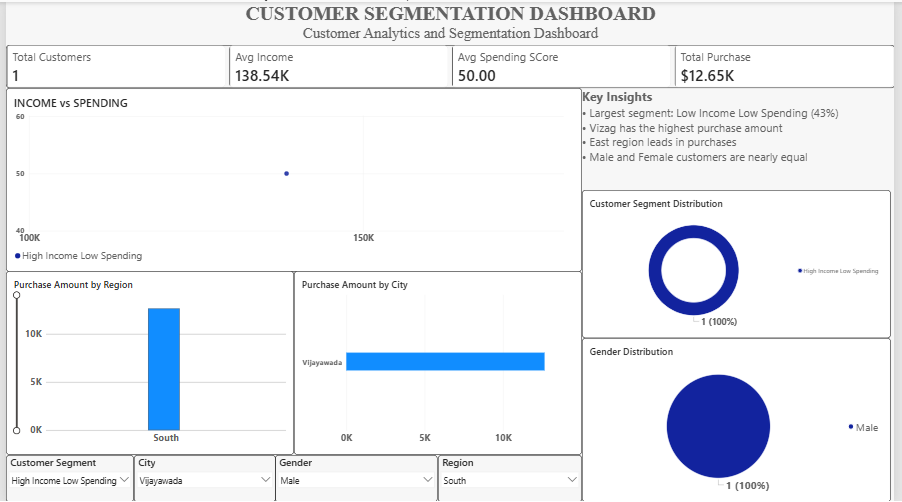

The page's visual inventory and layout, read from the dashboard file:
{"tool":"powerbi","page":{"name":"Page 1","canvas":[1920,1080],"ordinal":0},"visuals":[{"type":"cardVisual","fields":{"Data":["CustomerSegmentation.Total Customers","CustomerSegmentation.Avg Income","CustomerSegmentation.Avg Spending SCore","CustomerSegmentation.Total Purchase"]},"box":[0,92.9,1920.2,92.9],"z":0},{"type":"textbox","box":[0,0,1920.2,92.9],"z":1},{"type":"donutChart","title":"Customer Segment Distribution","fields":{"Category":["CustomerSegmentation.Customer Segment"],"Y":["CountNonNull(CustomerSegmentation.CustomerID)"]},"box":[1244.2,406.1,667.4,319.7],"z":2},{"type":"scatterChart","title":"INCOME vs SPENDING","fields":{"Series":["CustomerSegmentation.Customer Segment"],"X":["CustomerSegmentation.AnnualIncome"],"Y":["CustomerSegmentation.SpendingScore"]},"box":[0,185,1244.2,396.9],"z":3},{"type":"pieChart","title":"Gender Distribution","fields":{"Category":["CustomerSegmentation.Gender"],"Y":["CountNonNull(CustomerSegmentation.CustomerID)"]},"box":[1244.2,725.8,667.4,354.2],"z":4},{"type":"clusteredColumnChart","title":"Purchase Amount by Region","fields":{"Category":["CustomerSegmentation.Region"],"Y":["Sum(CustomerSegmentation.PurchaseAmount)"]},"box":[0,581.9,622.1,396.9],"z":5},{"type":"clusteredBarChart","title":"Purchase Amount by City","fields":{"Category":["CustomerSegmentation.City"],"Y":["Sum(CustomerSegmentation.PurchaseAmount)"]},"box":[622.1,581.9,622.1,396.9],"z":6},{"type":"slicer","fields":{"Values":["CustomerSegmentation.Customer Segment"]},"box":[0,978.8,276.2,101.9],"z":7},{"type":"slicer","fields":{"Values":["CustomerSegmentation.Gender"]},"box":[581.9,978.8,351.3,101.9],"z":8},{"type":"slicer","fields":{"Values":["CustomerSegmentation.City"]},"box":[276.2,978.8,305.7,101.9],"z":9},{"type":"slicer","fields":{"Values":["CustomerSegmentation.Region"]},"box":[933.2,978.8,311.1,101.9],"z":10},{"type":"textbox","box":[1244,186,676,220],"z":11}]}

Visuals, with their boxes in screenshot pixels (x1, y1, x2, y2), scaled from the page's 1920x1080 canvas onto the 902x502 screenshot:
cardVisual - CustomerSegmentation.Total Customers x CustomerSegmentation.Avg Income: {"left": 0, "top": 43, "right": 901, "bottom": 86}
textbox: {"left": 0, "top": 0, "right": 901, "bottom": 43}
"Customer Segment Distribution" donutChart: {"left": 585, "top": 189, "right": 898, "bottom": 337}
"INCOME vs SPENDING" scatterChart: {"left": 0, "top": 86, "right": 585, "bottom": 270}
"Gender Distribution" pieChart: {"left": 585, "top": 337, "right": 898, "bottom": 501}
"Purchase Amount by Region" clusteredColumnChart: {"left": 0, "top": 270, "right": 292, "bottom": 455}
"Purchase Amount by City" clusteredBarChart: {"left": 292, "top": 270, "right": 585, "bottom": 455}
slicer - CustomerSegmentation.Customer Segment: {"left": 0, "top": 455, "right": 130, "bottom": 501}
slicer - CustomerSegmentation.Gender: {"left": 273, "top": 455, "right": 438, "bottom": 501}
slicer - CustomerSegmentation.City: {"left": 130, "top": 455, "right": 273, "bottom": 501}
slicer - CustomerSegmentation.Region: {"left": 438, "top": 455, "right": 585, "bottom": 501}
textbox: {"left": 584, "top": 86, "right": 901, "bottom": 189}
